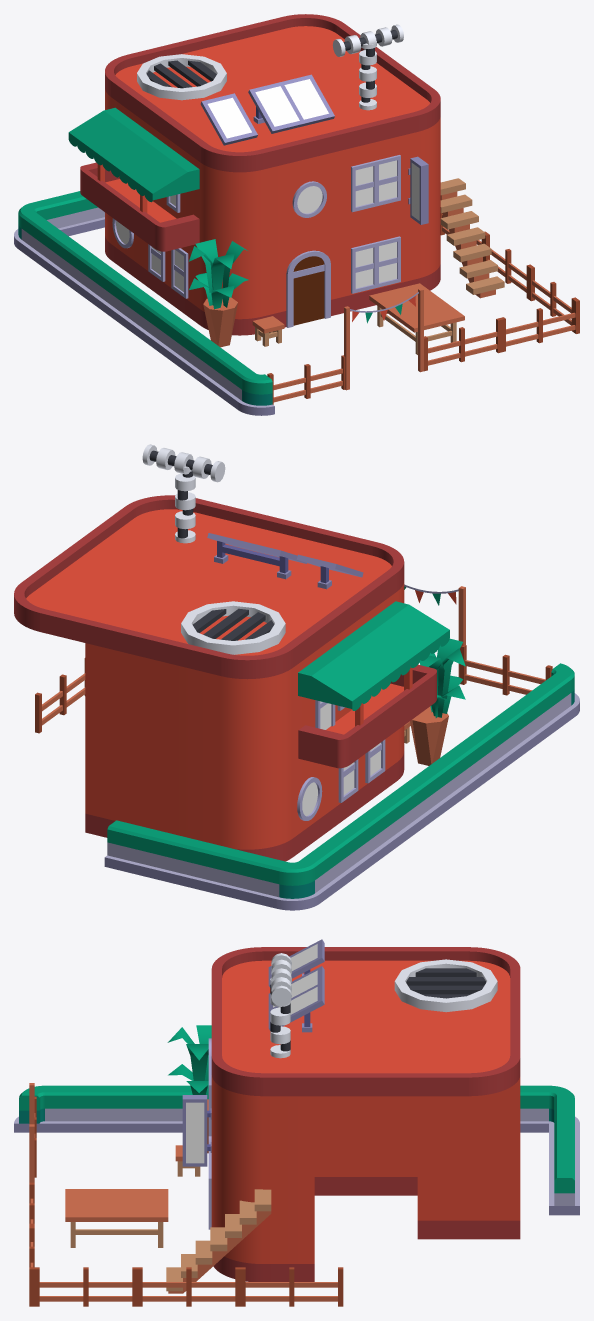
The model's file is House.fbx.
The picture shows the model from 3 angles, top to bottom: view 1: azimuth 30°, elevation 25°; view 2: azimuth 150°, elevation 25°; view 3: azimuth 270°, elevation 25°; orthographic projection. The views are drawn at different scales.
Parts seen in each view (by area): view 1: mergedBlocks; view 2: mergedBlocks; view 3: mergedBlocks.
Boxes of the visible parts, <box> form: mergedBlocks: <box>14,14,579,415</box>; mergedBlocks: <box>14,444,579,910</box>; mergedBlocks: <box>14,939,579,1306</box>.
Bounding box in the file's own units: 43 × 30 × 55.
